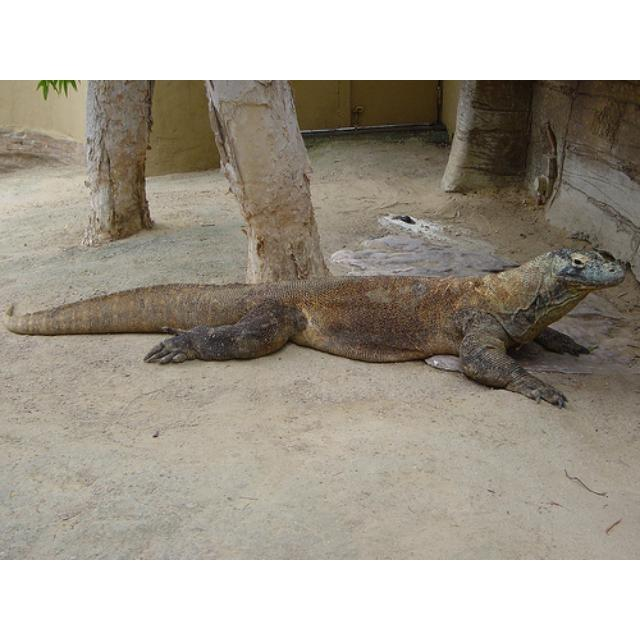KomodoDragon: (2, 247, 627, 408)
